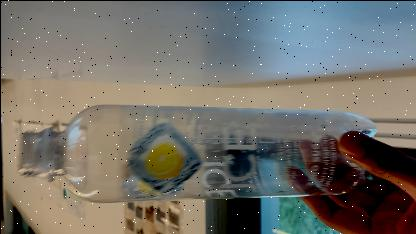Plastic Bottle: (11, 87, 399, 201)
